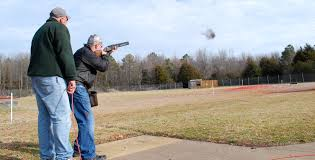Gun: (101, 40, 129, 53)
